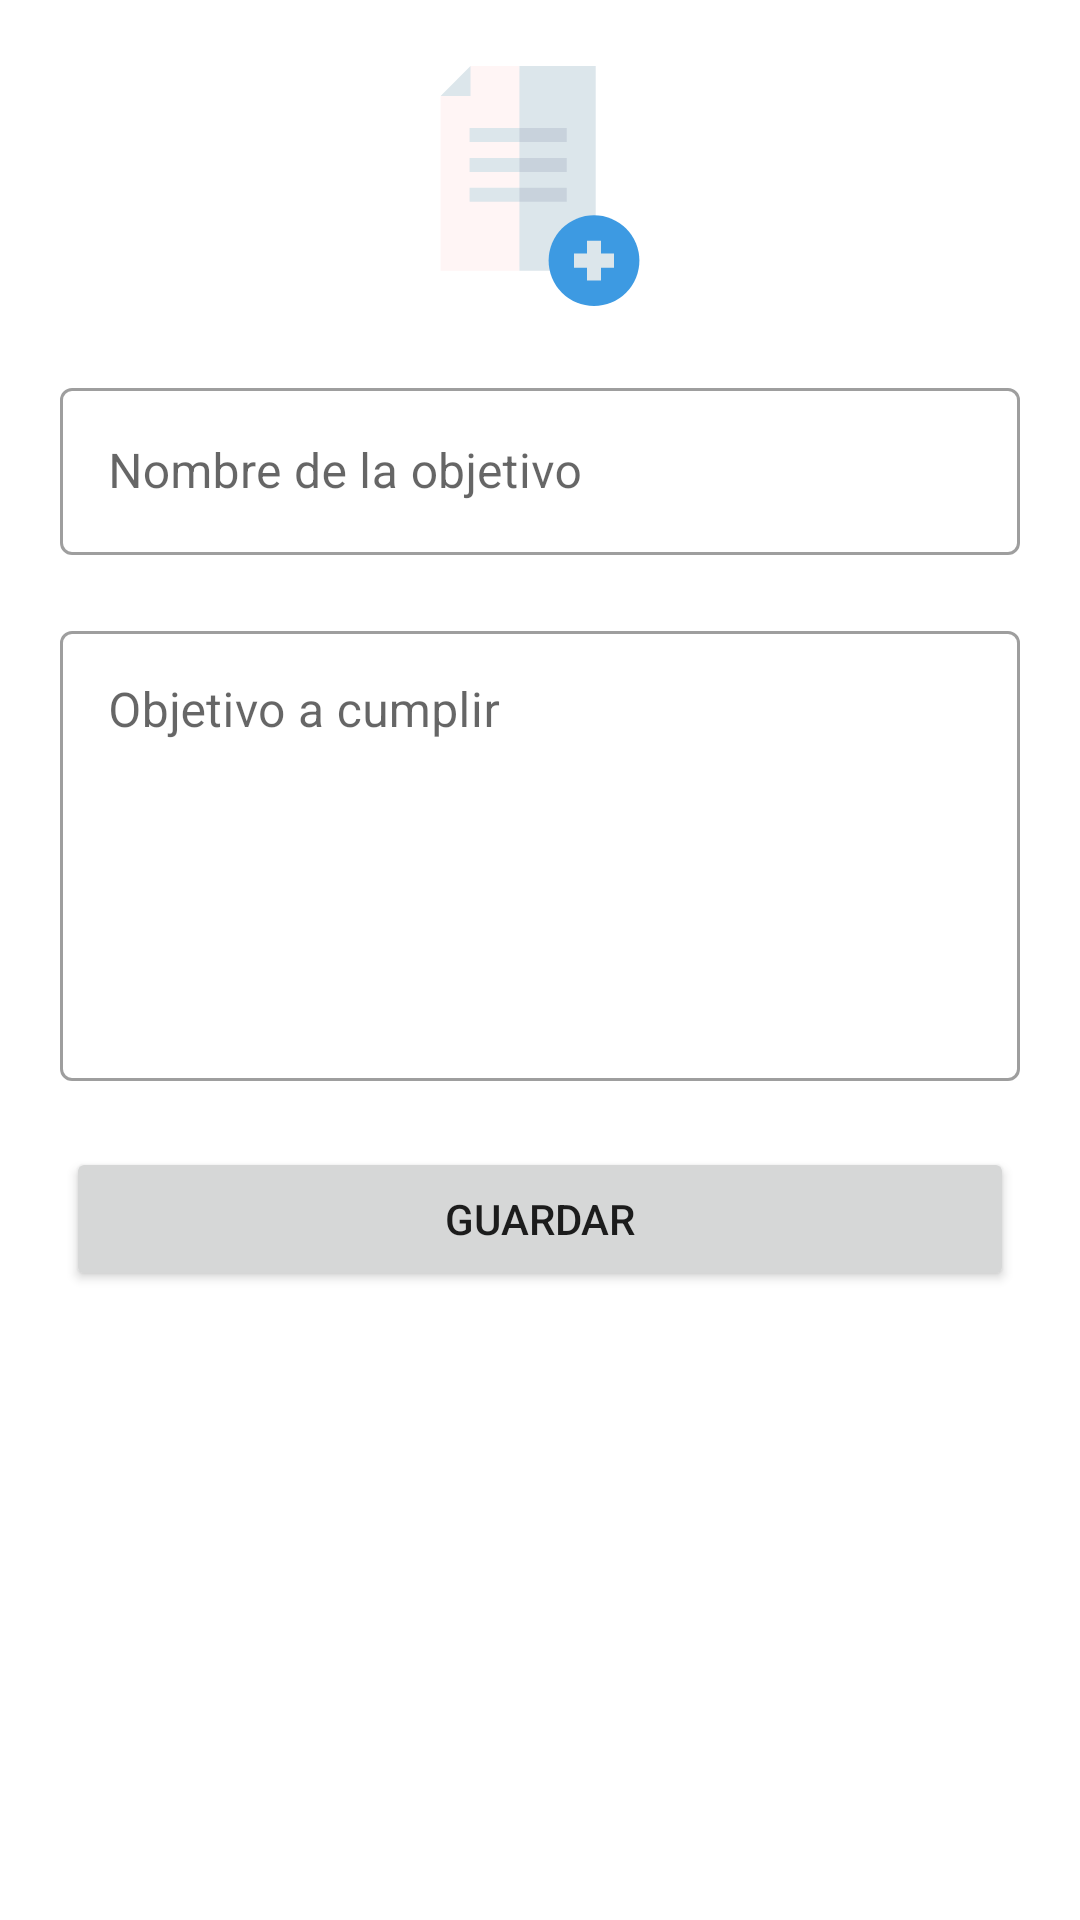

Icon bounding boxes for this 1080w x 1920h phone screenshot, format (x1, y1, x2, y2):
document: (441, 66, 640, 306)
